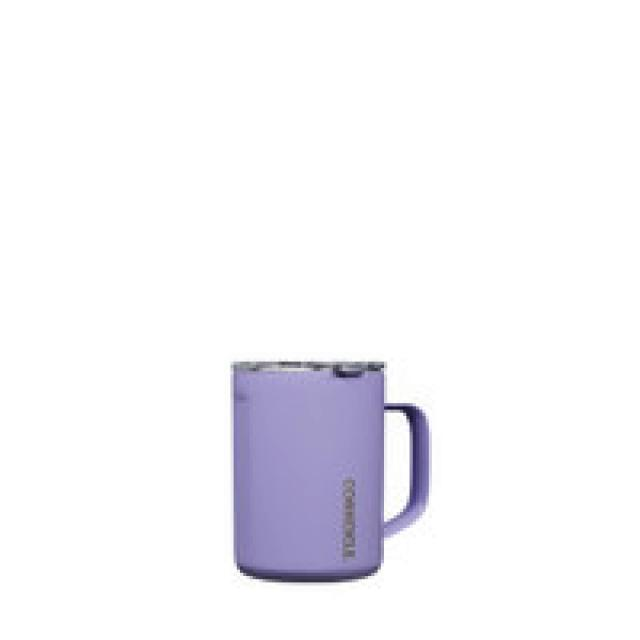bottle: (229, 359, 432, 584)
